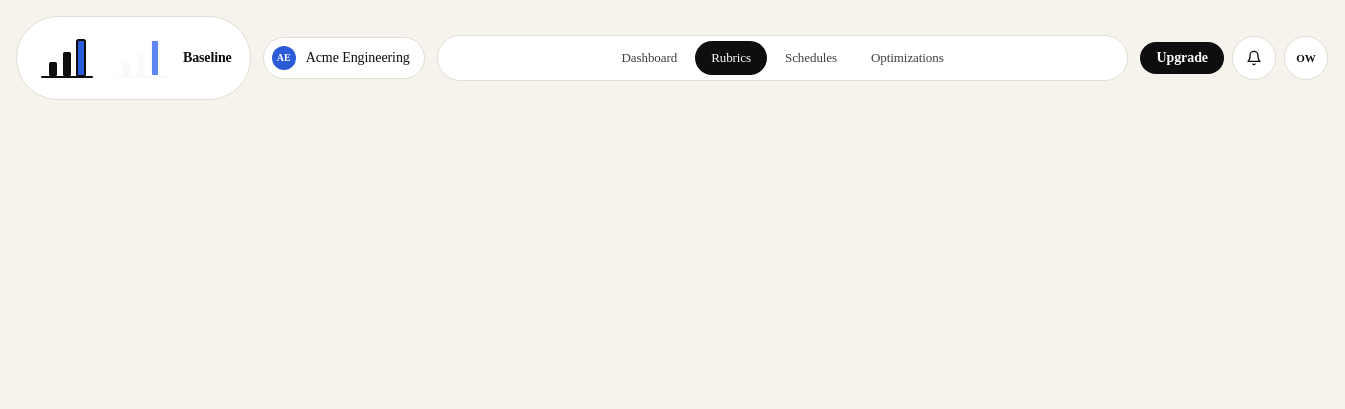
it: NavBarClient › opens the account menu and reveals the email + sign-out
Check: the text "Signed in as" is not shown
The avatar toggles the menu open.
What coordinates should you click on to do the following:
click the button with aria-label "Account"
I would click on:
 (1306, 58)
Its box is [1284,36,1328,80].
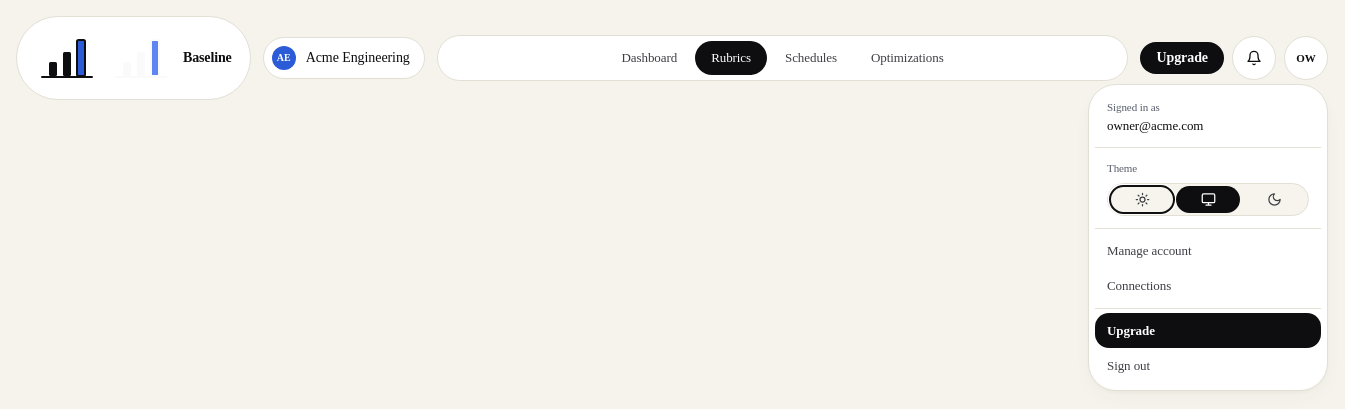
Check: the text "Signed in as" is shown, box [1107,101,1160,113]
Check: the text "owner@acme.com" is shown, box [1107,118,1203,132]
Check: the button "Sign out" is shown, box [1095,348,1321,384]
